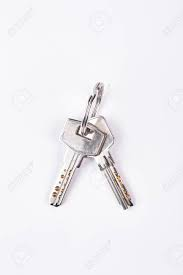key: (72, 112, 137, 213), (47, 117, 106, 212)
